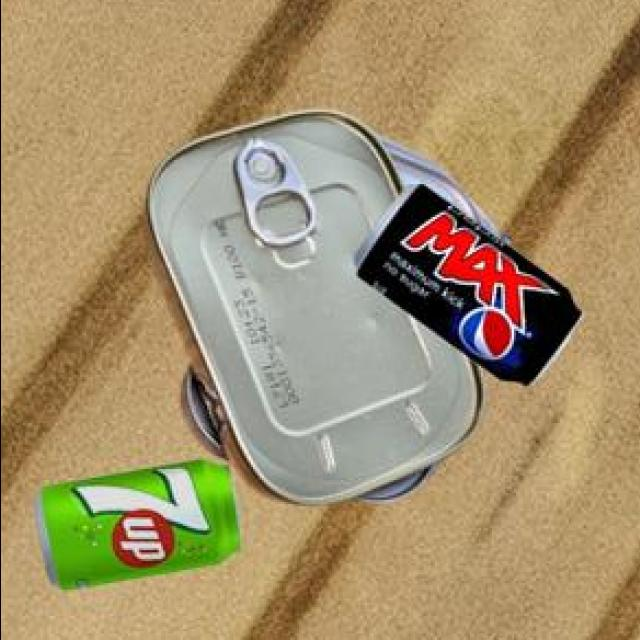logam: (139, 113, 505, 510), (352, 187, 578, 389), (32, 464, 236, 593)
